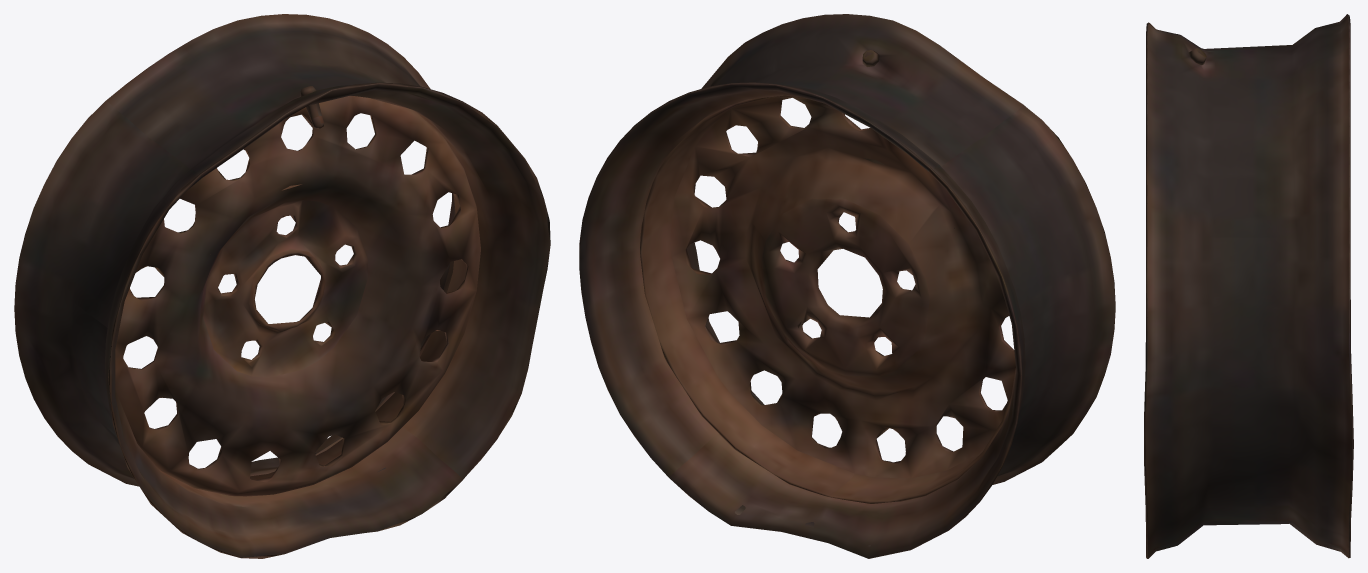
Rendered from rusted_wheel_rim_01_lod1.glb.
The picture shows the model from 3 angles, left to right: view 1: azimuth 30°, elevation 25°; view 2: azimuth 150°, elevation 25°; view 3: azimuth 270°, elevation 25°; orthographic projection. The views are drawn at different scales.
Visible parts, largest first — view 1: rusted_wheel_rim_01; view 2: rusted_wheel_rim_01; view 3: rusted_wheel_rim_01.
Boxes of the visible parts, x1,y1,x2,y2 form: rusted_wheel_rim_01: (14,14,550,558); rusted_wheel_rim_01: (579,14,1115,558); rusted_wheel_rim_01: (1144,14,1353,558).
Size of the model in its own units: 0.4018 by 0.3938 by 0.1539.
Materials: 1 (1 with a texture image).
